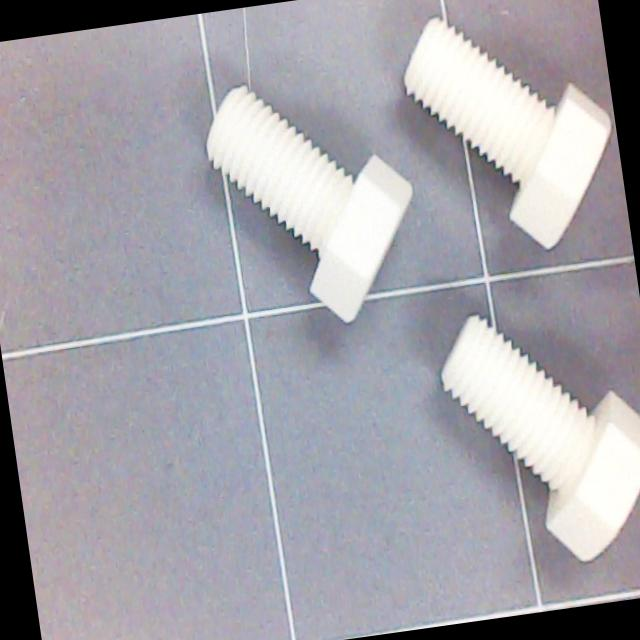bolts: (402, 282, 640, 567), (158, 81, 427, 325), (361, 15, 626, 254)
